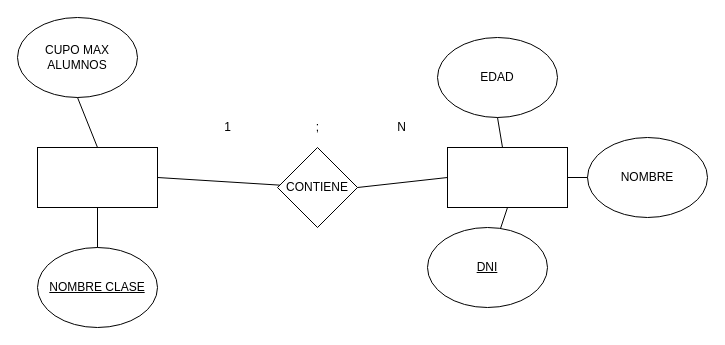
This 725x345 diagram has some shape labels left out. Here are the shapes that lost their labels. From the top down, the box of each, then its label:
(36, 146, 158, 208): CLASE
(446, 146, 568, 208): ALUMNOS
